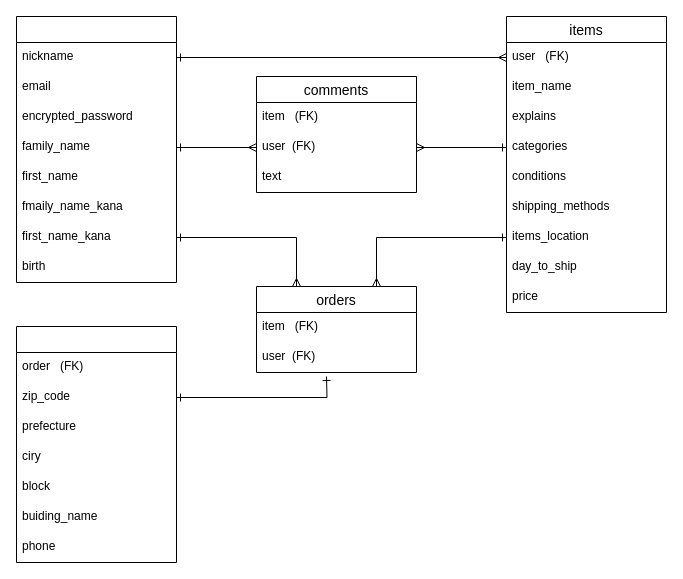
The diagram is 683 pixels wide and 579 high, and some of its shapes have lost their labels. Here are the shapes that lost their labels. From the top down, the box of each, then its label:
(16, 16, 176, 282): users
(16, 326, 176, 562): addresses
